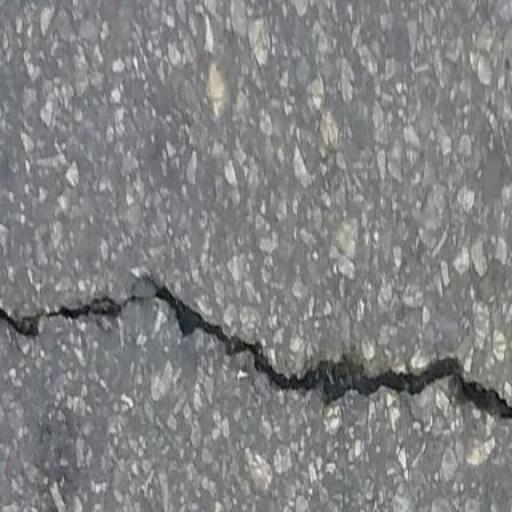spalling: (1, 276, 509, 433)
